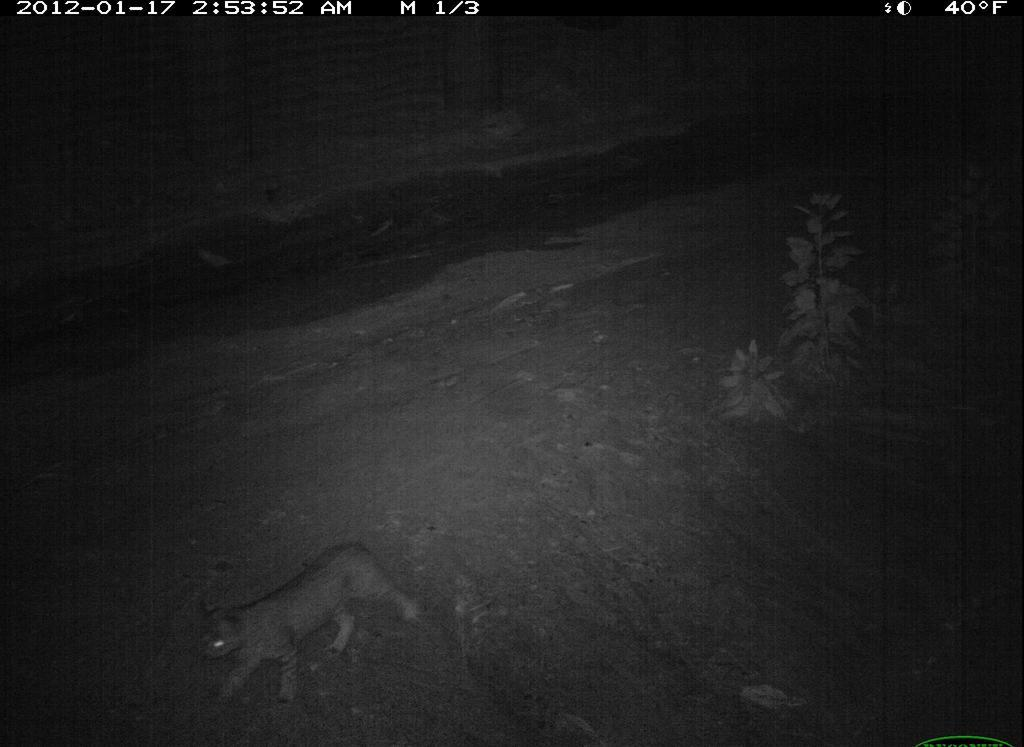bobcat: (181, 529, 427, 710)
